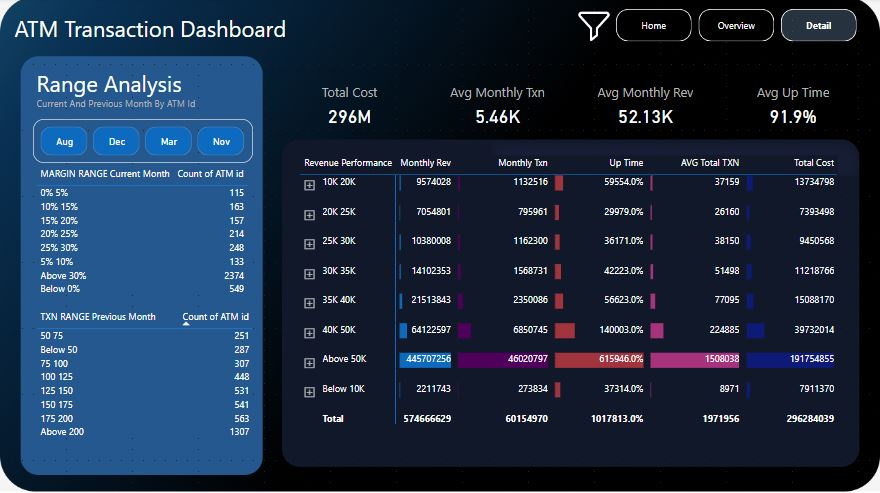

The dashboard page shown, as its layout file describes it:
{"tool":"powerbi","page":{"name":"Detail","canvas":[1280,720],"ordinal":2},"visuals":[{"type":"tableEx","fields":{"Values":["ATM DETAILS.MARGIN RANGE Current Month","ATM DETAILS.ATM id"]},"box":[48,240,320,208],"z":0},{"type":"tableEx","fields":{"Values":["ATM DETAILS.TXN RANGE Previous Month","ATM DETAILS.ATM id"]},"box":[48,448,352,224],"z":1000},{"type":"advancedSlicerVisual","fields":{"Values":["ATM DETAILS.Short_Month"]},"box":[48,176,320,64],"z":2000},{"type":"textbox","box":[48,96,336,80],"z":3000},{"type":"textbox","box":[16,16,624,80],"z":4000},{"type":"pivotTable","fields":{"Rows":["ATM DETAILS.Revenue Performance","ATM DETAILS.STATE","ATM DETAILS.ATM id"],"Values":["Sum(ATM DETAILS.Monthly Rev)","Sum(ATM DETAILS.Monthly Txn)","Sum(ATM DETAILS.Up Time)","Sum(ATM DETAILS.AVG Total TXN)","Sum(ATM DETAILS. Total Cost  )"]},"box":[432,224,800,432],"z":5000},{"type":"cardVisual","fields":{"Data":["Sum(ATM DETAILS. Total Cost  )","Avg(ATM DETAILS.Monthly Txn)","Avg(ATM DETAILS.Monthly Rev)","Avg(ATM DETAILS.Up Time)"]},"box":[400,96,864,112],"z":6000},{"type":"pageNavigator","box":[896,16,352,48],"z":7000},{"type":"image","box":[832,0,64,80],"z":9000}]}

Visuals, with their boxes in screenshot pixels (x1, y1, x2, y2), scaled from the page's 1280x720 canvas onto the 880x493 screenshot:
tableEx - ATM DETAILS.MARGIN RANGE Current Month x ATM DETAILS.ATM id: locate(33, 164, 253, 307)
tableEx - ATM DETAILS.TXN RANGE Previous Month x ATM DETAILS.ATM id: locate(33, 307, 275, 460)
advancedSlicerVisual - ATM DETAILS.Short_Month: locate(33, 121, 253, 164)
textbox: locate(33, 66, 264, 121)
textbox: locate(11, 11, 440, 66)
pivotTable - ATM DETAILS.Revenue Performance x ATM DETAILS.STATE: locate(297, 153, 847, 449)
cardVisual - Sum(ATM DETAILS. Total Cost  ) x Avg(ATM DETAILS.Monthly Txn): locate(275, 66, 869, 142)
pageNavigator: locate(616, 11, 858, 44)
image: locate(572, 0, 616, 55)
